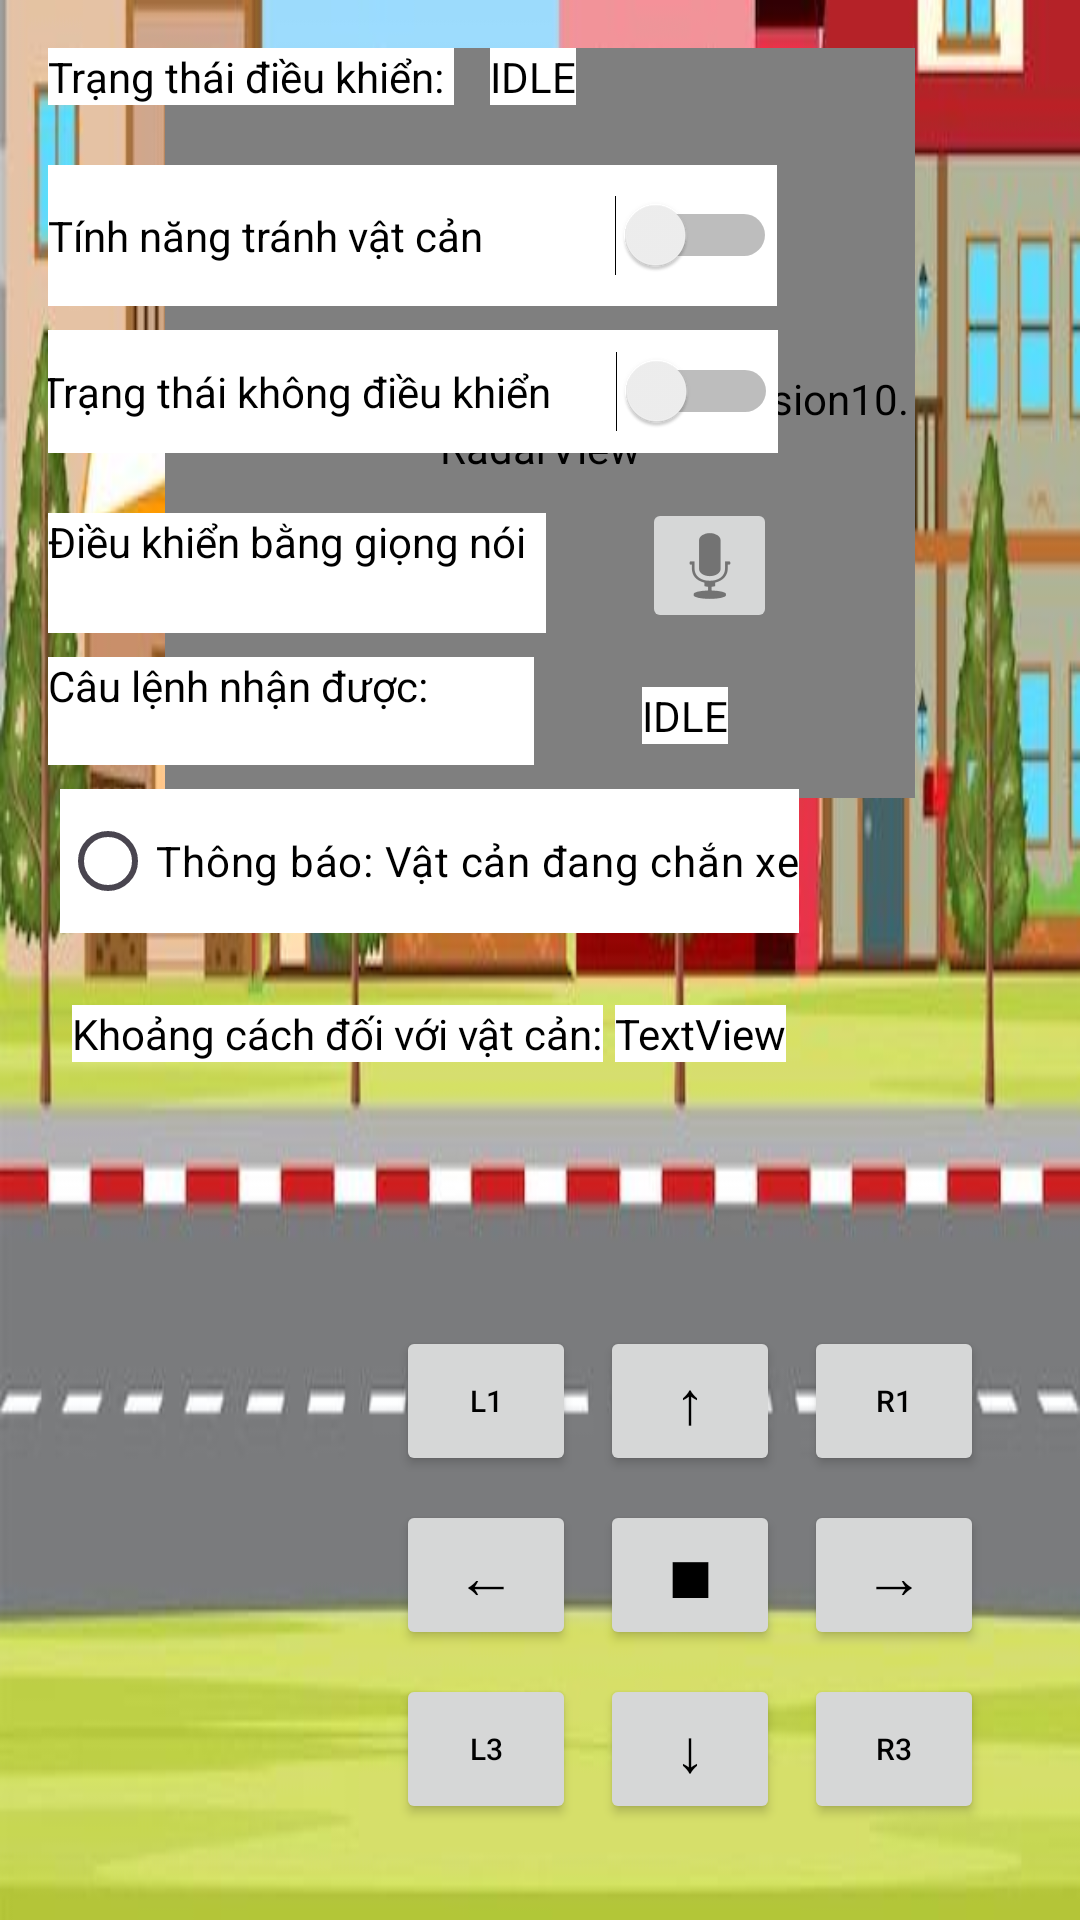

Icons on this 1080×1920 Android screen, each with its box as (x1, y1, x2, y2):
speak now: (654, 516, 765, 615)
